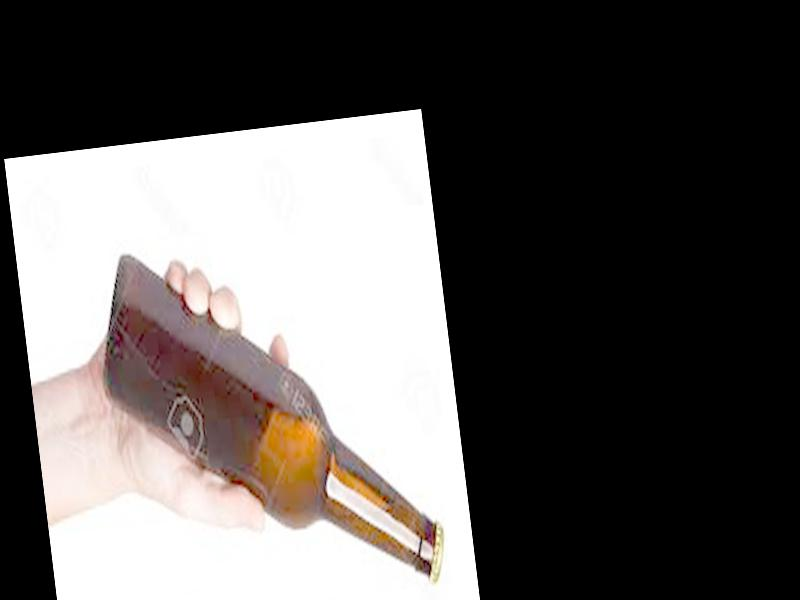Beer: (90, 224, 449, 600)
